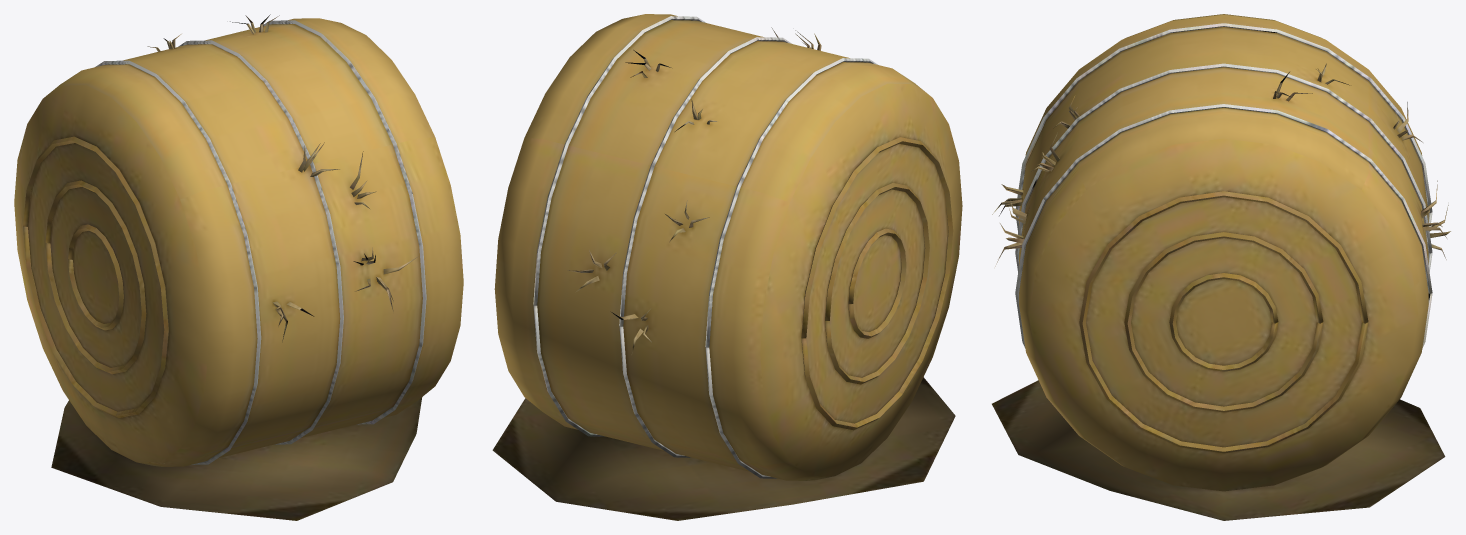
File: hay_round.glb
The picture shows the model from 3 angles, left to right: view 1: azimuth 30°, elevation 25°; view 2: azimuth 150°, elevation 25°; view 3: azimuth 270°, elevation 25°; orthographic projection. The views are drawn at different scales.
Parts seen in each view (by area): view 1: hay_round; view 2: hay_round; view 3: hay_round.
Boxes of the visible parts, x1=… form: hay_round: x1=14, y1=14, x2=463, y2=520; hay_round: x1=492, y1=14, x2=962, y2=520; hay_round: x1=992, y1=14, x2=1450, y2=520.
Bounding box in the file's own units: 1.58 × 1.54 × 1.68.
Materials: 1 (1 with a texture image).
